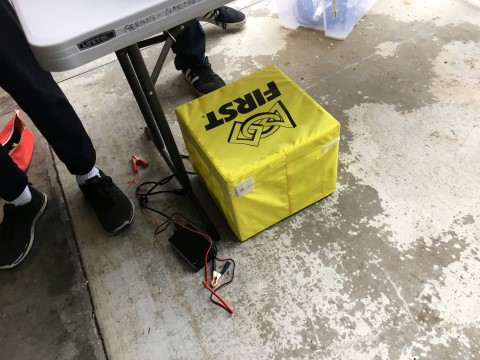cube: (174, 63, 341, 242)
